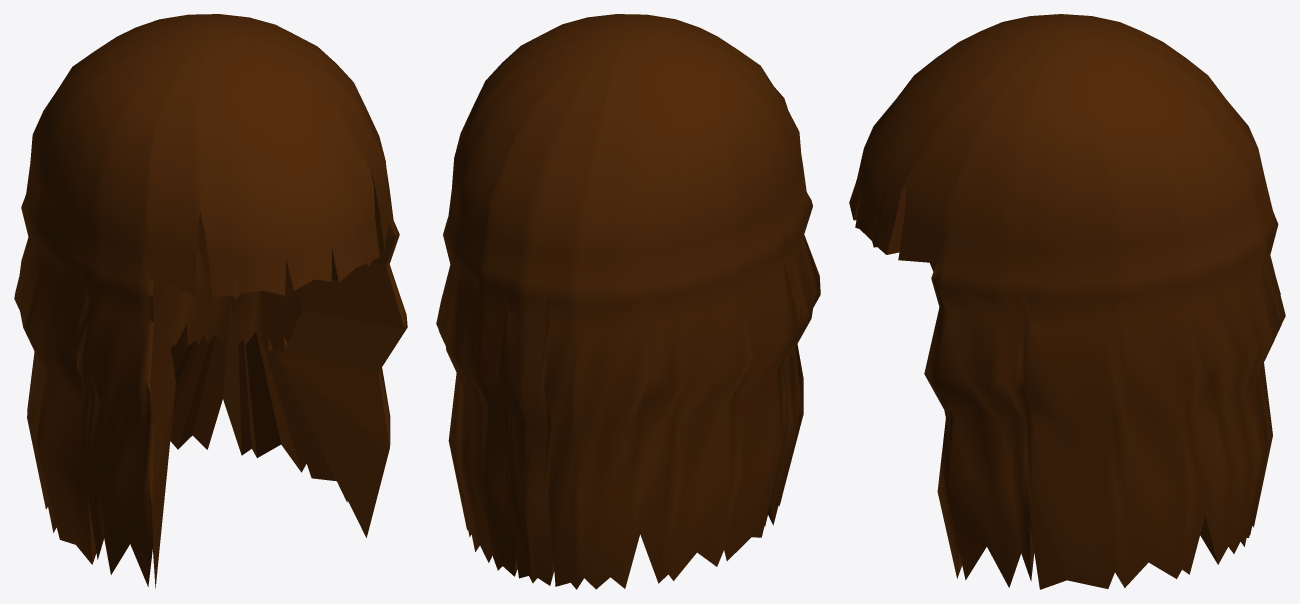
File: hair01.fbx
3 views of the same model, side by side, from view 1: azimuth 30°, elevation 25°; view 2: azimuth 150°, elevation 25°; view 3: azimuth 270°, elevation 25° (orthographic). The views are drawn at different scales.
Visible parts, largest first — view 1: hair1:hair_short; view 2: hair1:hair_short; view 3: hair1:hair_short.
Part boxes in pixels (<box>): hair1:hair_short: <box>14,14,407,588</box>; hair1:hair_short: <box>436,14,820,589</box>; hair1:hair_short: <box>849,14,1285,589</box>.
Size of the model in its own units: 186 by 274 by 219.
